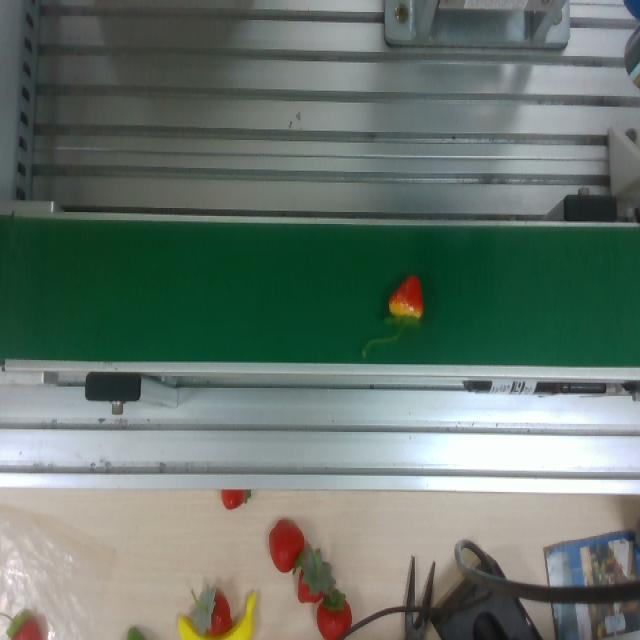Small Unripe Strawberry: (380, 276, 430, 334)
conveyor: (0, 205, 640, 382)
